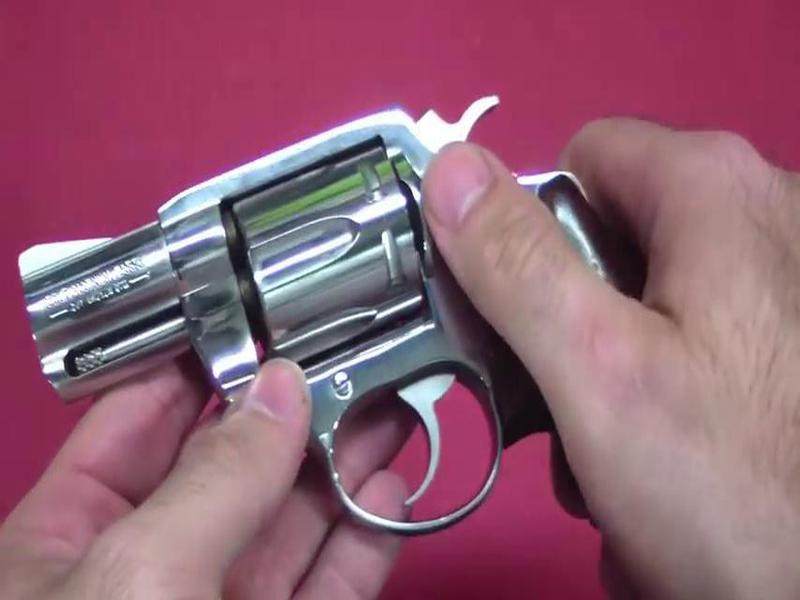Revolver: (38, 91, 663, 577)
